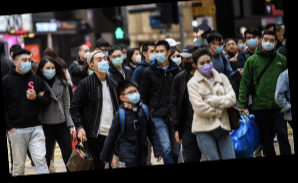with_mask: (197, 57, 214, 75), (94, 55, 110, 74), (125, 87, 141, 104), (18, 56, 33, 73), (261, 35, 276, 52), (154, 47, 168, 63), (43, 65, 56, 80), (181, 57, 194, 72), (246, 34, 259, 49), (110, 52, 123, 66), (170, 52, 183, 66), (214, 40, 225, 54), (146, 47, 156, 61), (81, 47, 91, 61), (132, 51, 143, 63), (100, 47, 111, 58), (236, 40, 244, 50)
without_mask: (225, 40, 237, 52)
